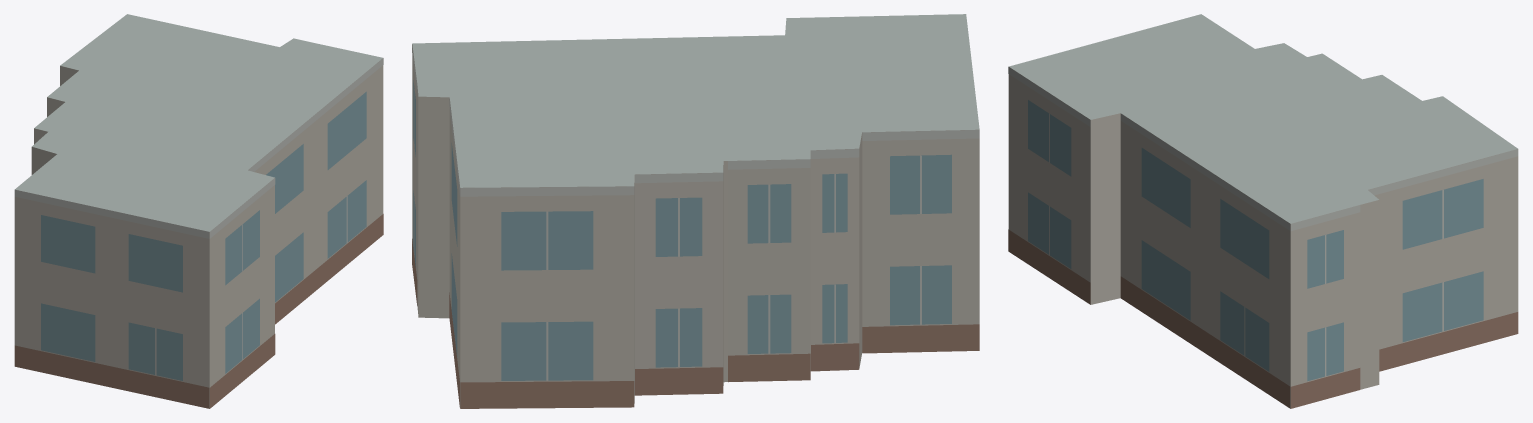
The model's file is survey-upis-32625508.glb.
3 views of the same model, side by side, from view 1: azimuth 30°, elevation 25°; view 2: azimuth 150°, elevation 25°; view 3: azimuth 270°, elevation 25° (orthographic). The views are drawn at different scales.
Parts seen in each view (by area): view 1: survey-upis-32625508.tmp; view 2: survey-upis-32625508.tmp; view 3: survey-upis-32625508.tmp.
Boxes of the visible parts, x1,y1,x2,y2 form: survey-upis-32625508.tmp: [14, 14, 383, 408]; survey-upis-32625508.tmp: [412, 14, 979, 408]; survey-upis-32625508.tmp: [1008, 14, 1518, 408].
Size of the model in its own units: 14.85 by 6.1 by 15.24.
